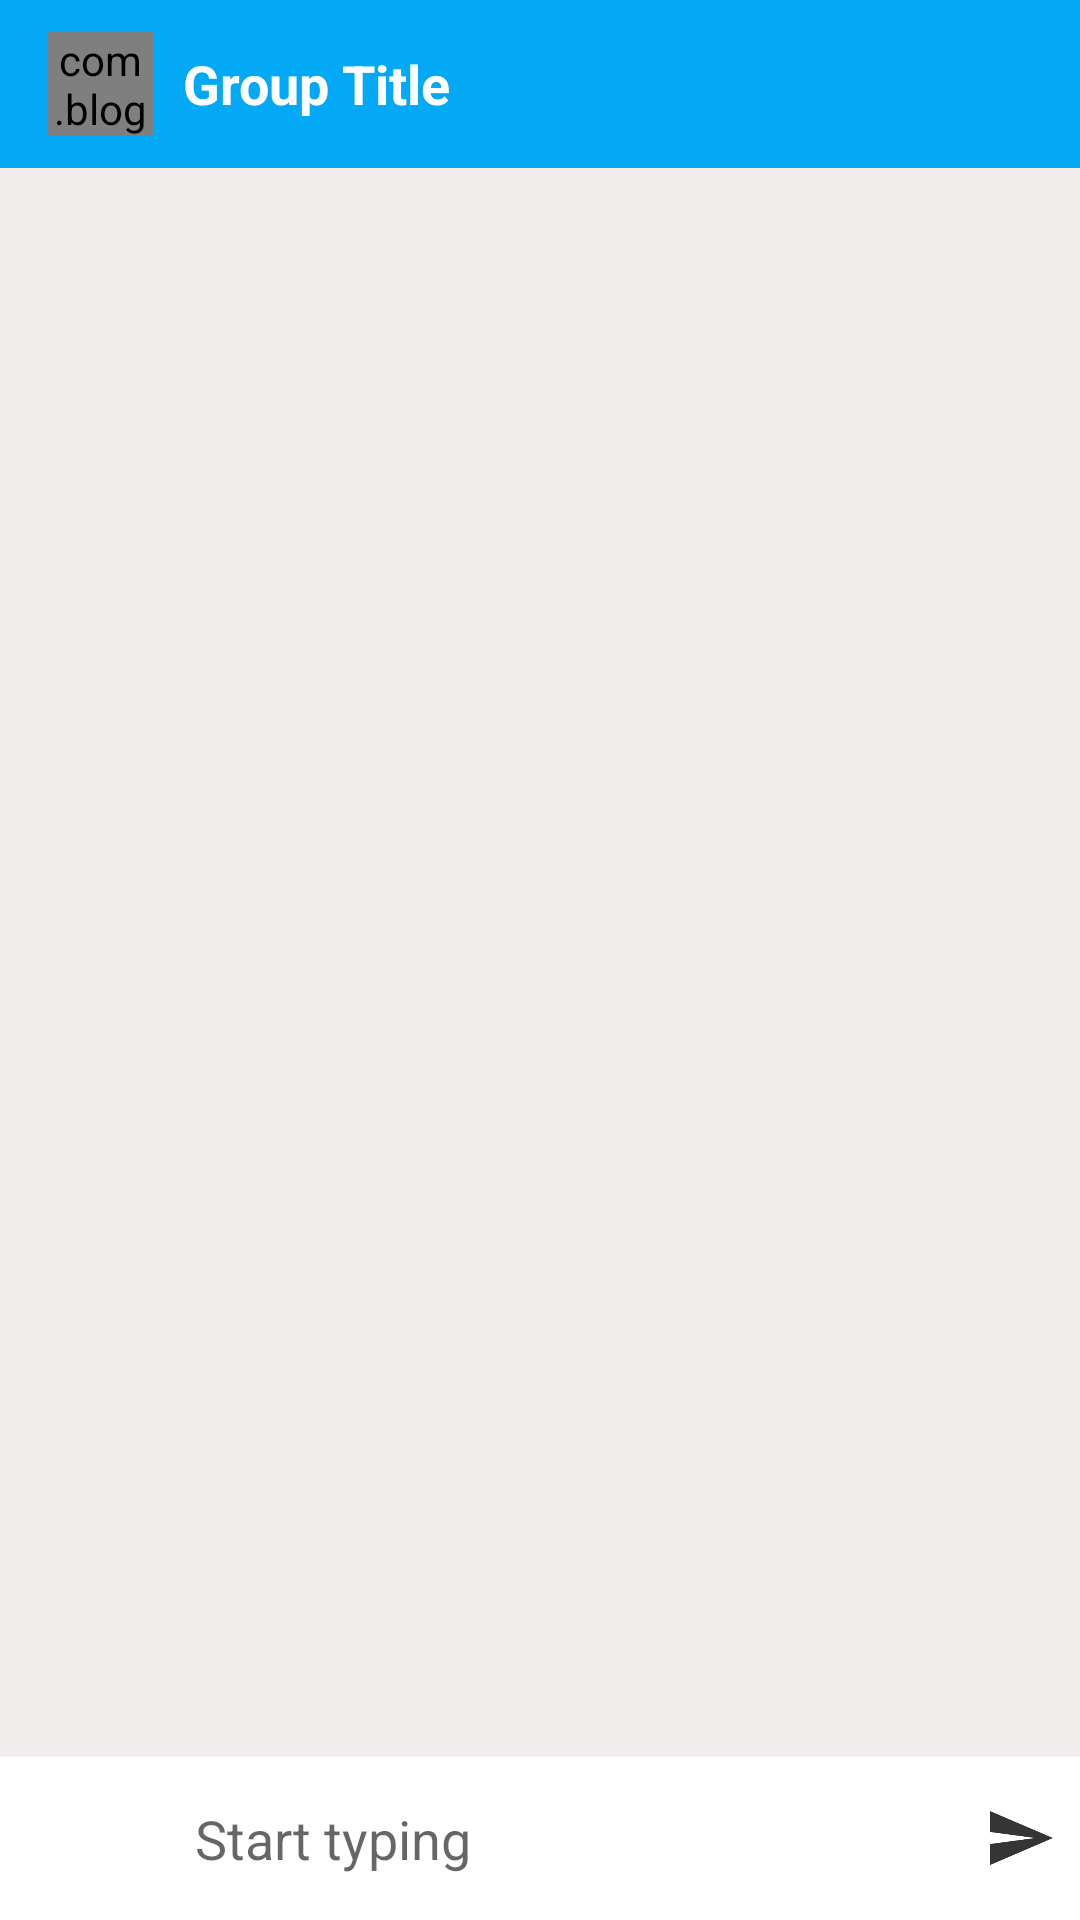

Locate icon controls on the screen. Image size 1080px×1920px, boxes as bbox(x1, y1, x2, y2).
send: bbox(990, 1811, 1052, 1865)
